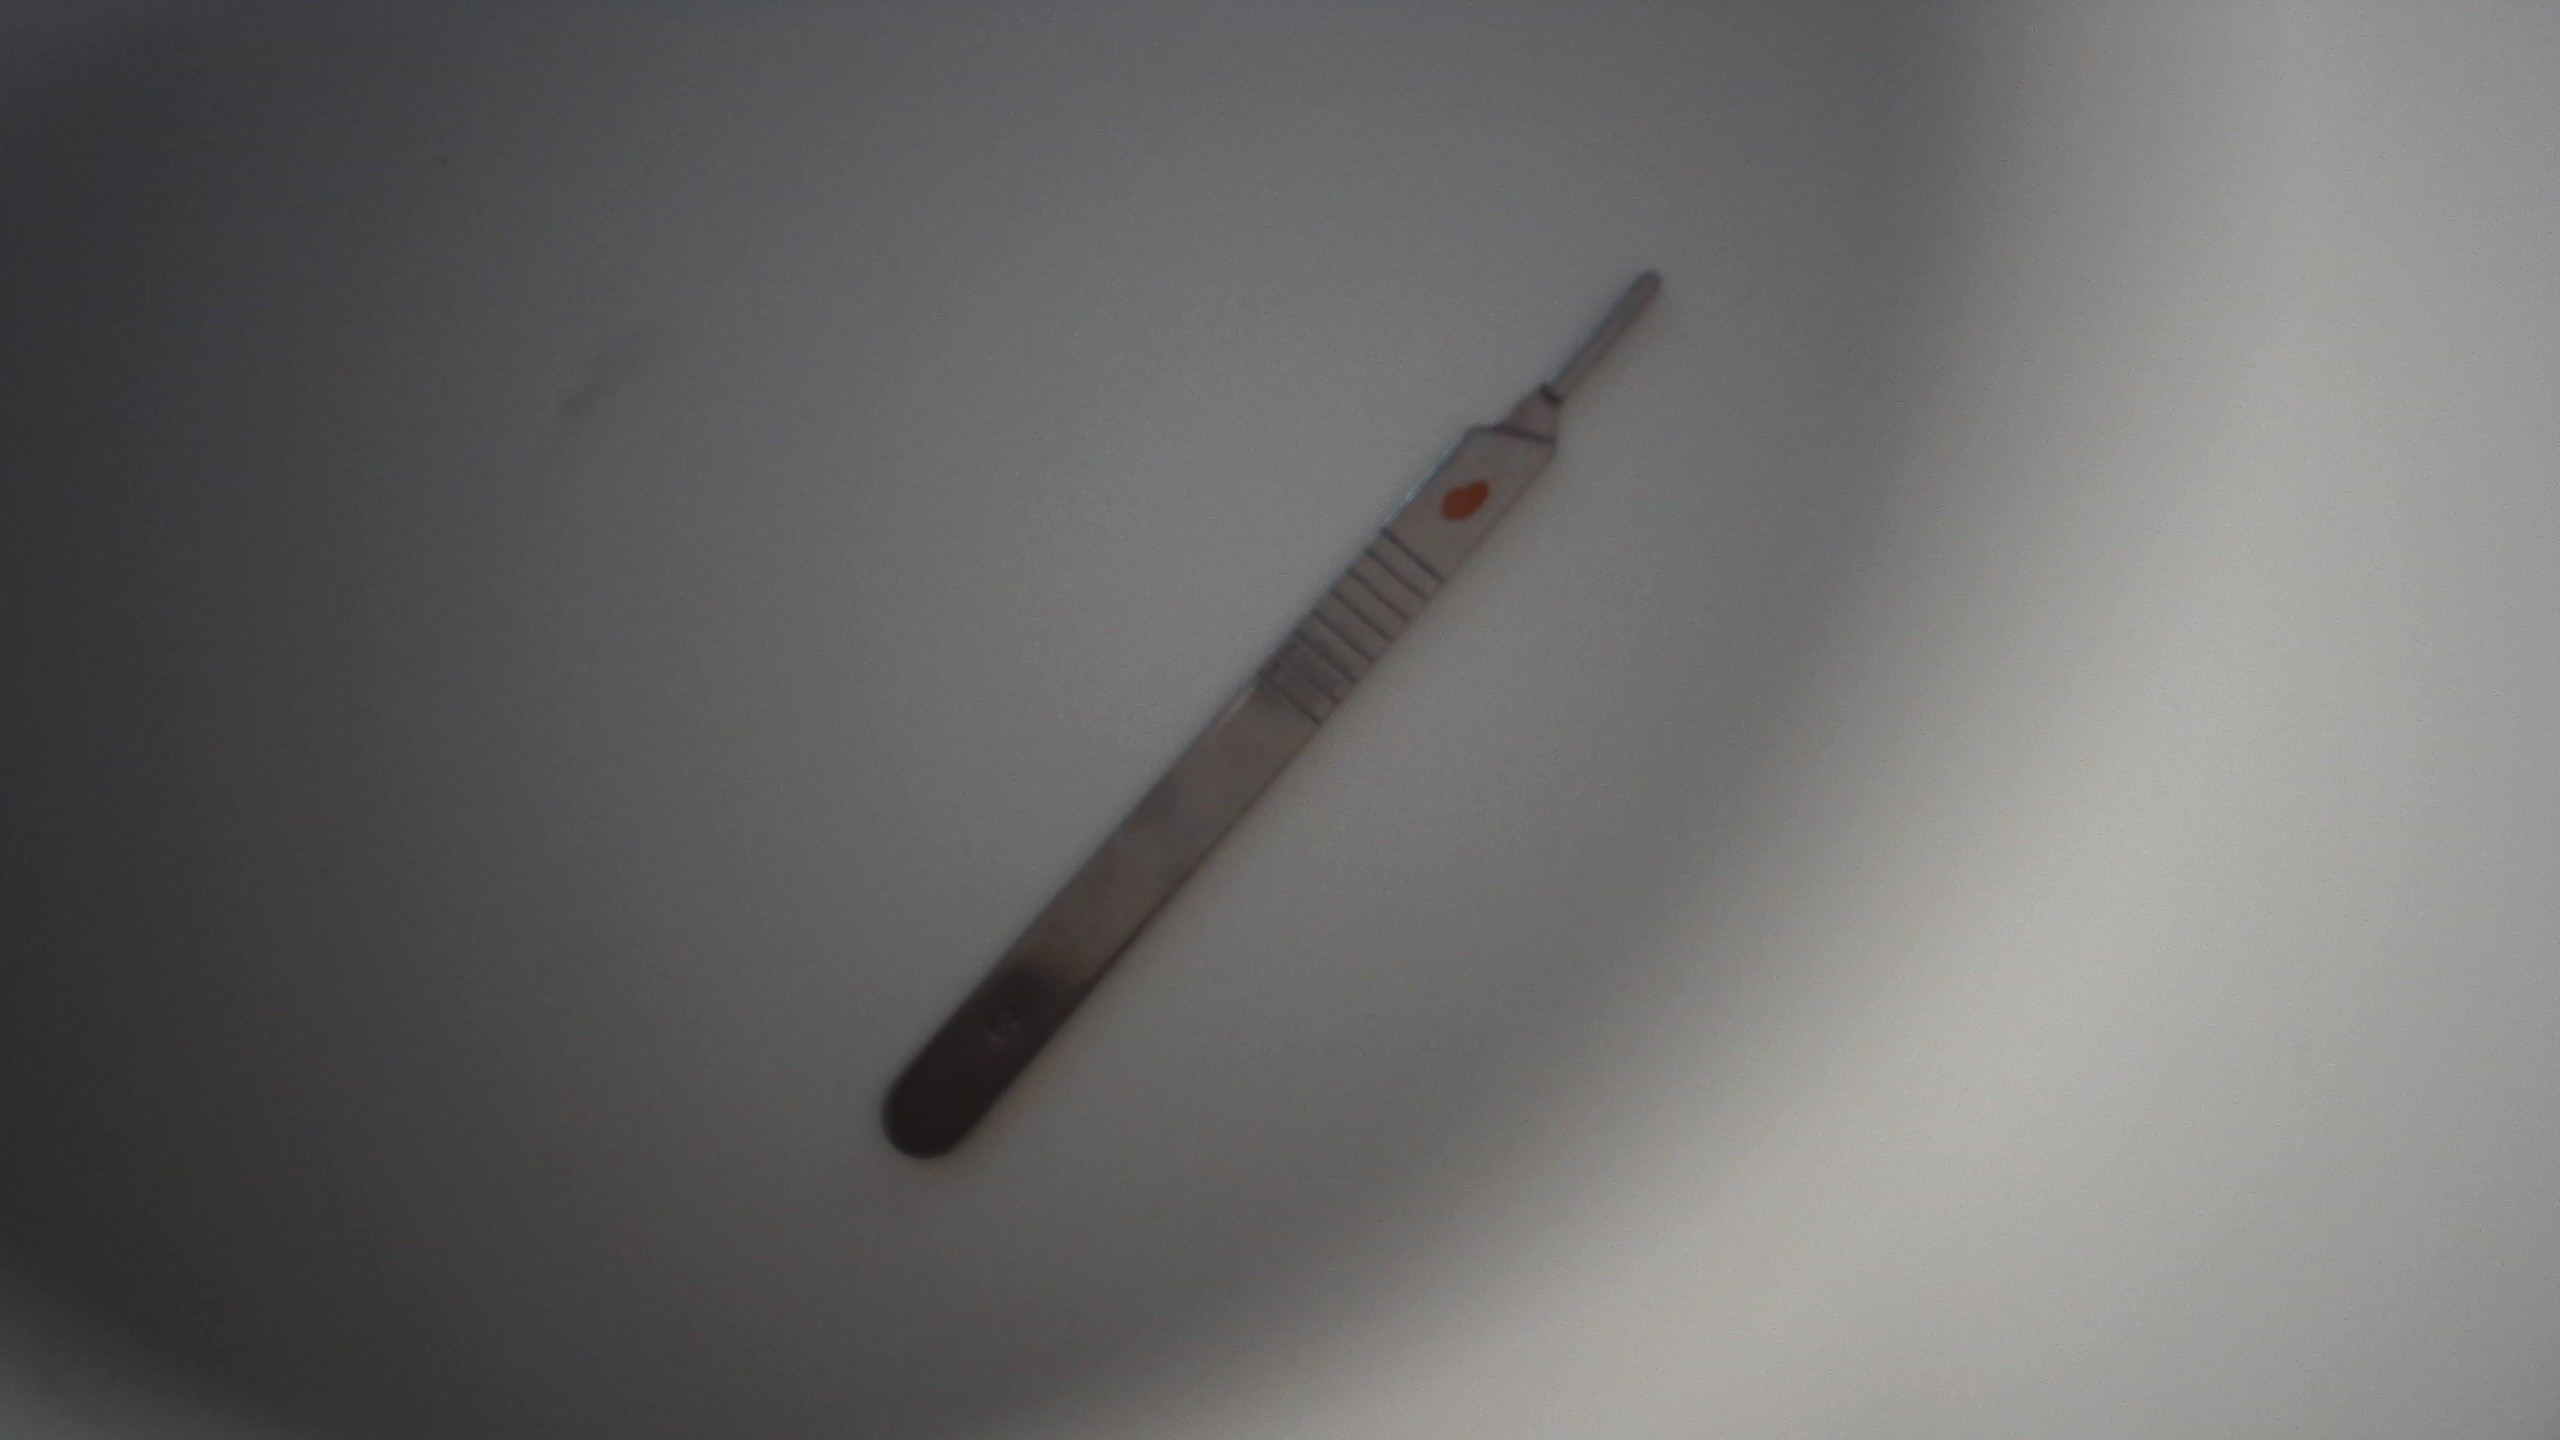Stain: (1431, 468, 1510, 538)
